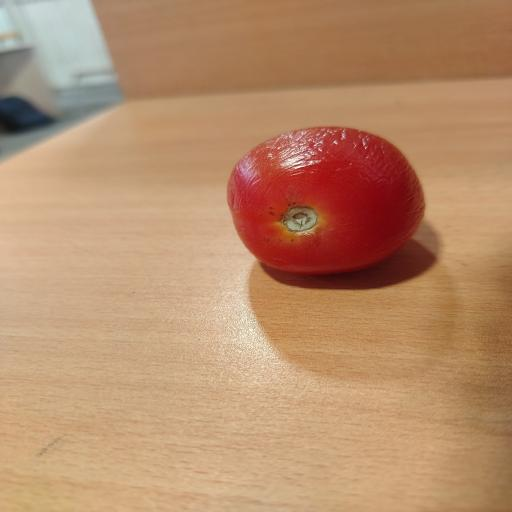spoiled: (228, 127, 424, 274)
